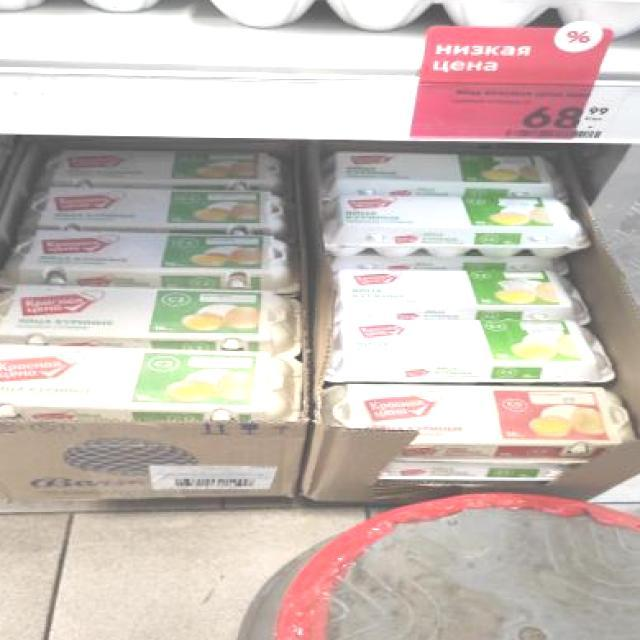egg: (326, 384, 634, 461), (0, 346, 297, 420), (330, 318, 617, 382), (0, 286, 299, 346), (5, 231, 297, 289), (324, 194, 586, 258), (334, 268, 583, 320), (18, 187, 286, 230), (319, 152, 564, 199), (38, 150, 290, 188)
